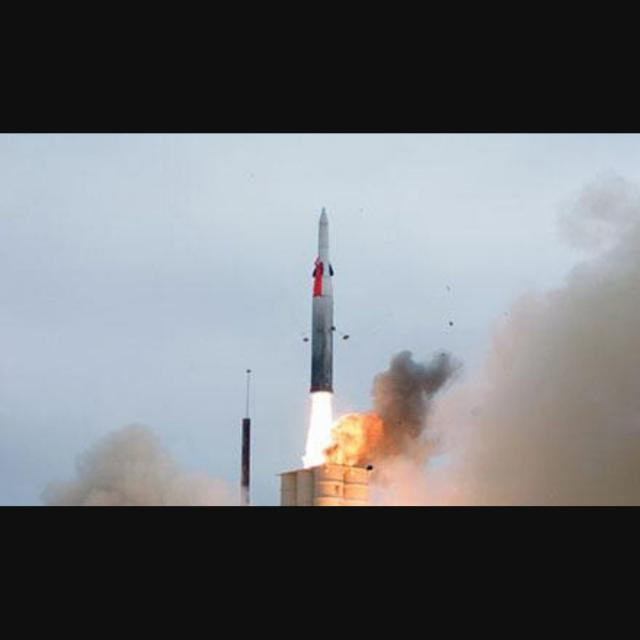Missile: (301, 197, 344, 409)
